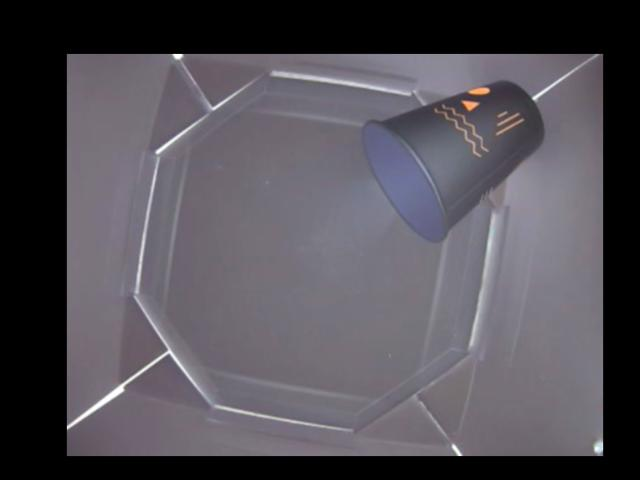Cup: (361, 79, 545, 244)
